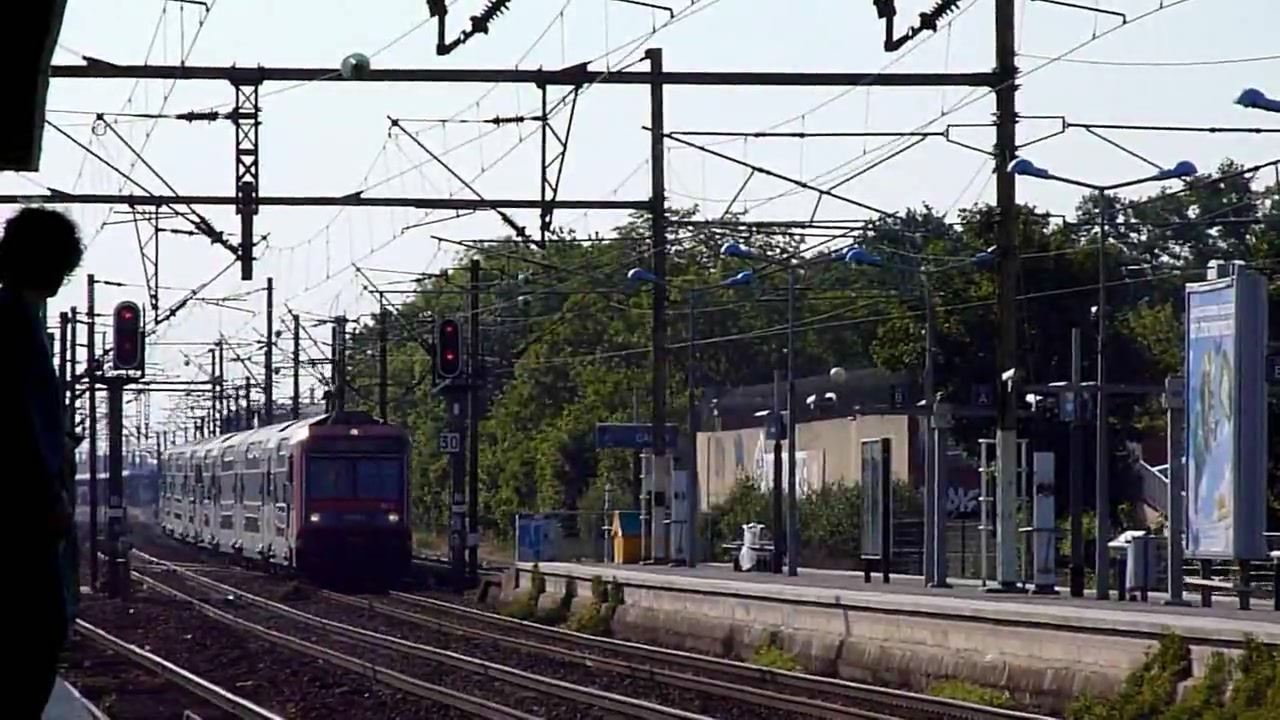train: (148, 409, 419, 586)
